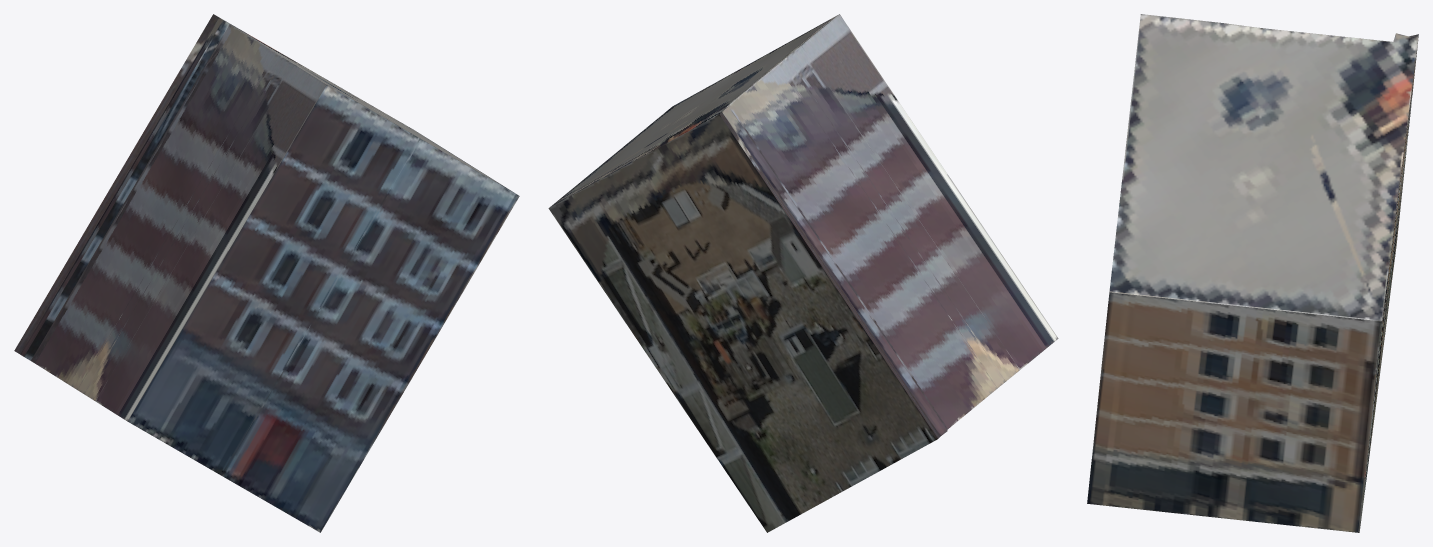
3 views of the same model, side by side, from view 1: azimuth 30°, elevation 25°; view 2: azimuth 150°, elevation 25°; view 3: azimuth 270°, elevation 25° (orthographic). The views are drawn at different scales.
Parts seen in each view (by area): view 1: BAG_0599100000656929 (×4); view 2: BAG_0599100000656929 (×3); view 3: BAG_0599100000656929 (×2).
Boxes of the visible parts, <box> form: BAG_0599100000656929 (×4): <box>14,14,519,532</box>; BAG_0599100000656929 (×3): <box>548,14,1058,532</box>; BAG_0599100000656929 (×2): <box>1087,14,1418,532</box>.
Size of the model in its own units: 19.37 by 20.72 by 11.75.
Materials: 4 (4 with a texture image).
